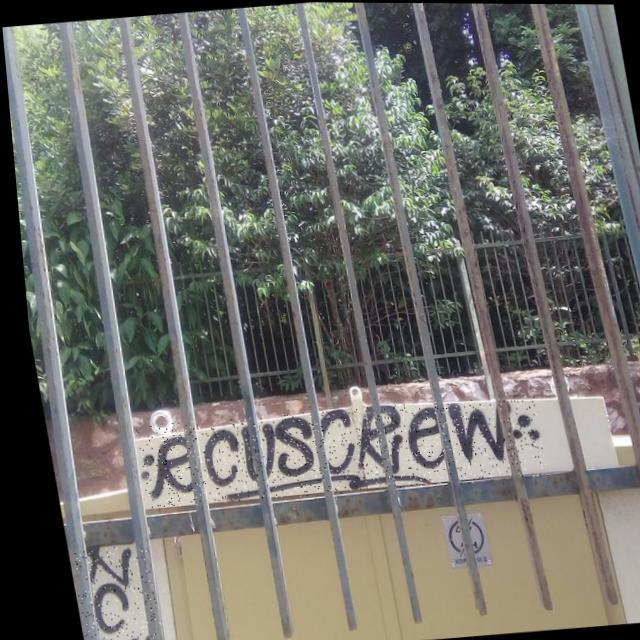-: (124, 390, 542, 510), (58, 543, 153, 640)
